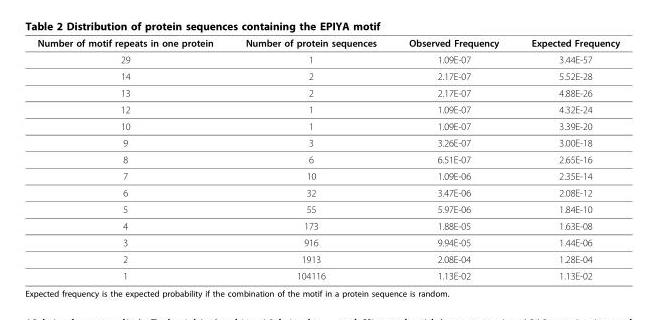table: (36, 36, 619, 281)
table column: (36, 36, 228, 281), (228, 36, 392, 281), (392, 36, 514, 281), (514, 36, 619, 281)
table column header: (36, 36, 619, 50)
table row: (36, 50, 619, 67), (36, 67, 619, 84), (36, 100, 619, 117), (36, 117, 619, 134), (36, 150, 619, 167), (36, 167, 619, 184), (36, 200, 619, 217), (36, 233, 619, 250), (36, 250, 619, 267), (36, 84, 619, 100), (36, 134, 619, 150), (36, 184, 619, 200), (36, 217, 619, 233), (36, 36, 619, 50), (36, 267, 619, 281)
